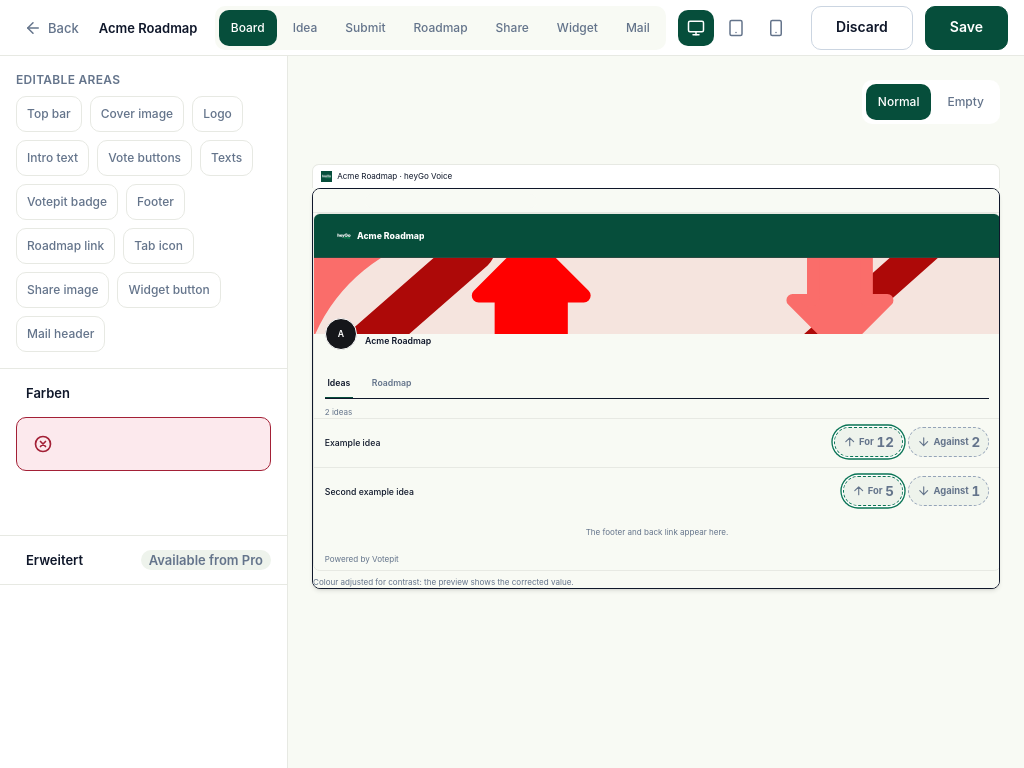
Test: BrandingBuilder › asks before leaving with unsaved changes and never leaves silently
Click the button with test id "branding-editor-back" at (51, 28), box [16,6,87,50]
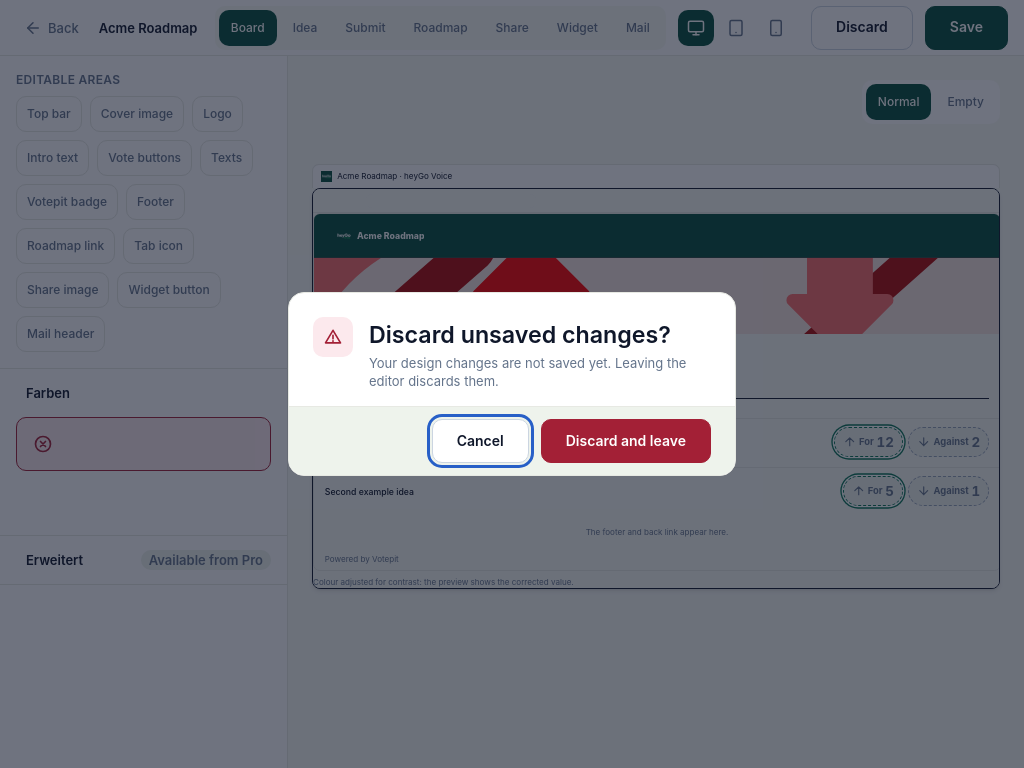
Expected: the dialog with test id "branding-editor-leave" is shown, [288,292,736,476]
